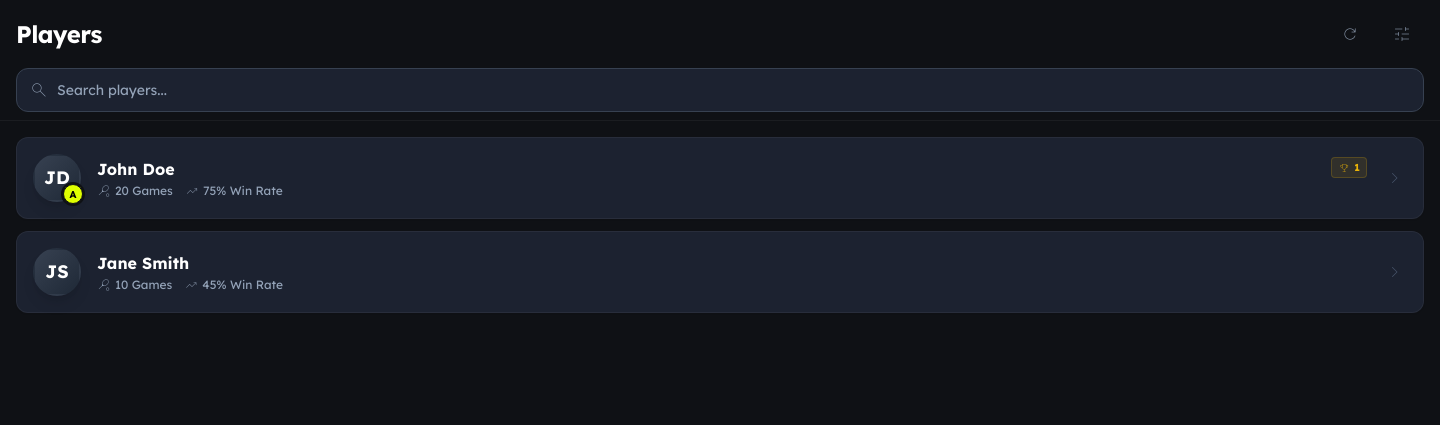
Test: Players Page › toggles filters
Expected: the text "Sort By" is not shown
Click filter button (tune icon)
Click the 2nd button "tune" at (1402, 34), box [1380,12,1424,56]
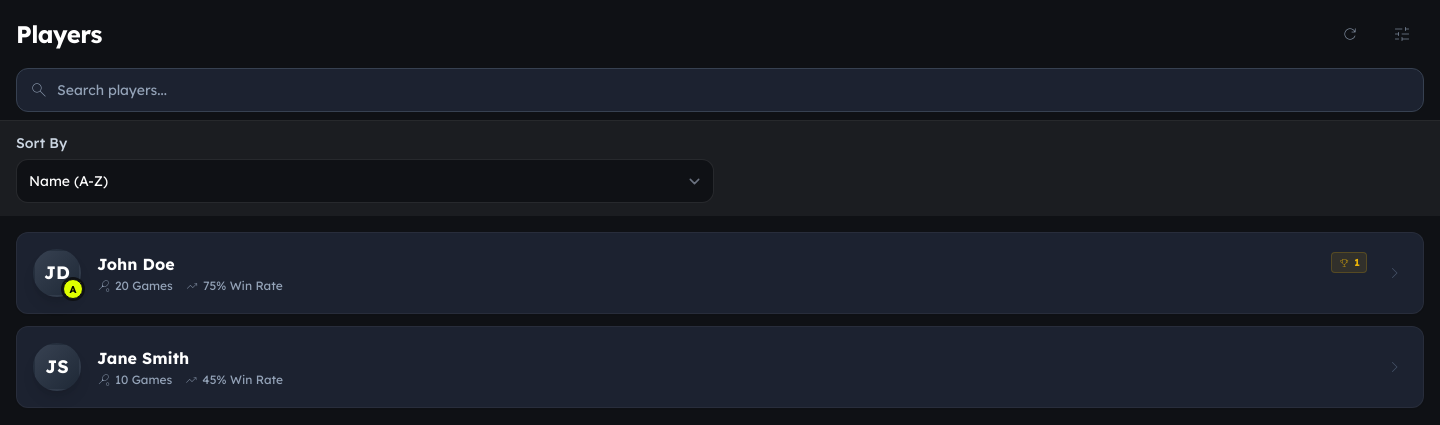
Result: the text "Sort By" is shown at [16,134,67,152]
